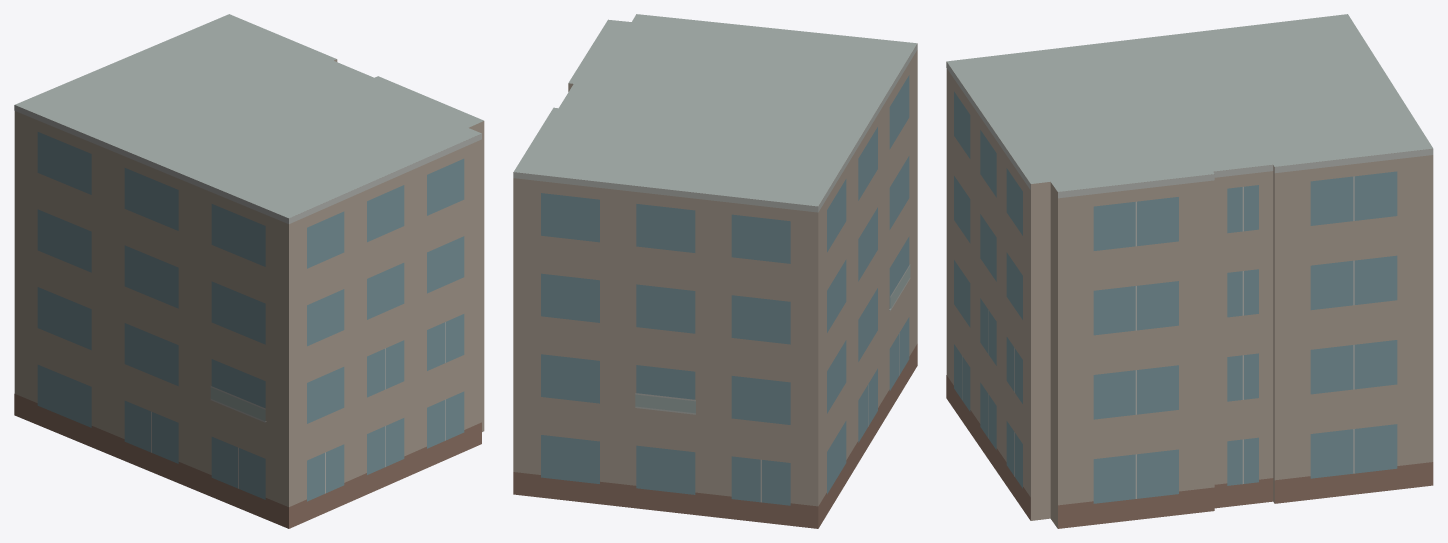
The model's file is survey-upis-32661475.glb.
3 renders of one model, left to right at view 1: azimuth 30°, elevation 25°; view 2: azimuth 150°, elevation 25°; view 3: azimuth 270°, elevation 25°, orthographic. The views are drawn at different scales.
Visible parts, largest first — view 1: survey-upis-32661475.tmp; view 2: survey-upis-32661475.tmp; view 3: survey-upis-32661475.tmp.
Boxes of the visible parts, left/top/right/bottom form: survey-upis-32661475.tmp: left=14, top=14, right=484, bottom=528; survey-upis-32661475.tmp: left=513, top=14, right=917, bottom=528; survey-upis-32661475.tmp: left=946, top=14, right=1433, bottom=528.
Bounding box in the file's own units: 14.63 × 12.9 × 16.91.
